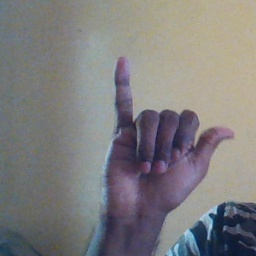J: (97, 56, 238, 219)
